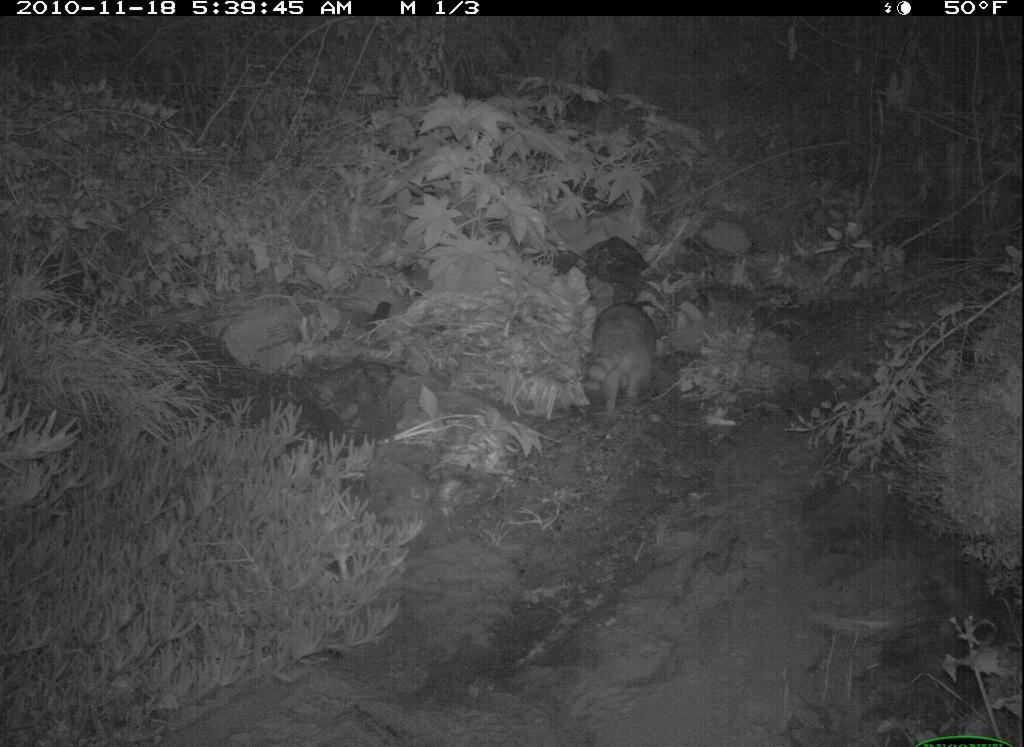raccoon: (575, 292, 674, 425)
